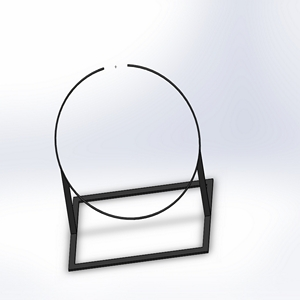circle: (52, 61, 216, 272)
